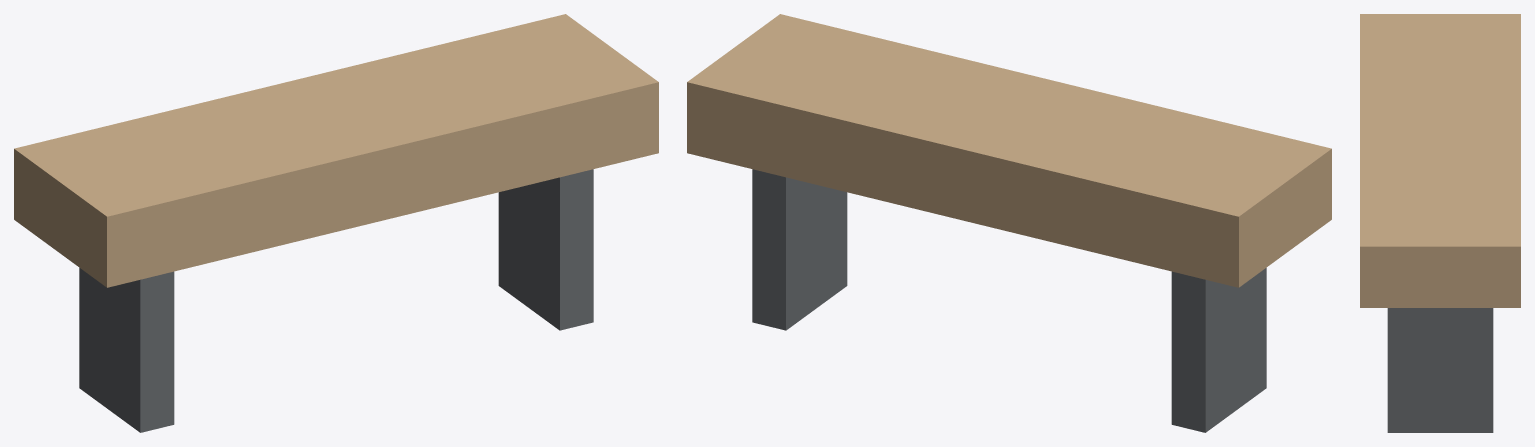
The model's file is gallery_bench_01.glb.
3 renders of one model, left to right at view 1: azimuth 30°, elevation 25°; view 2: azimuth 150°, elevation 25°; view 3: azimuth 270°, elevation 25°, orthographic. The views are drawn at different scales.
Visible parts, largest first — view 1: seat, leg-0.49400000000000005, leg0.49400000000000005; view 2: seat, leg-0.49400000000000005, leg0.49400000000000005; view 3: seat, leg0.49400000000000005.
Part boxes in pixels (bbox=[...]): seat: bbox=[14, 14, 658, 287]; leg-0.49400000000000005: bbox=[79, 268, 174, 432]; leg0.49400000000000005: bbox=[498, 169, 593, 330]; seat: bbox=[687, 14, 1331, 287]; leg-0.49400000000000005: bbox=[1171, 268, 1266, 432]; leg0.49400000000000005: bbox=[752, 169, 847, 330]; seat: bbox=[1360, 14, 1520, 307]; leg0.49400000000000005: bbox=[1387, 308, 1493, 432].
Size of the model in its own units: 1.3 by 0.54 by 0.38.
